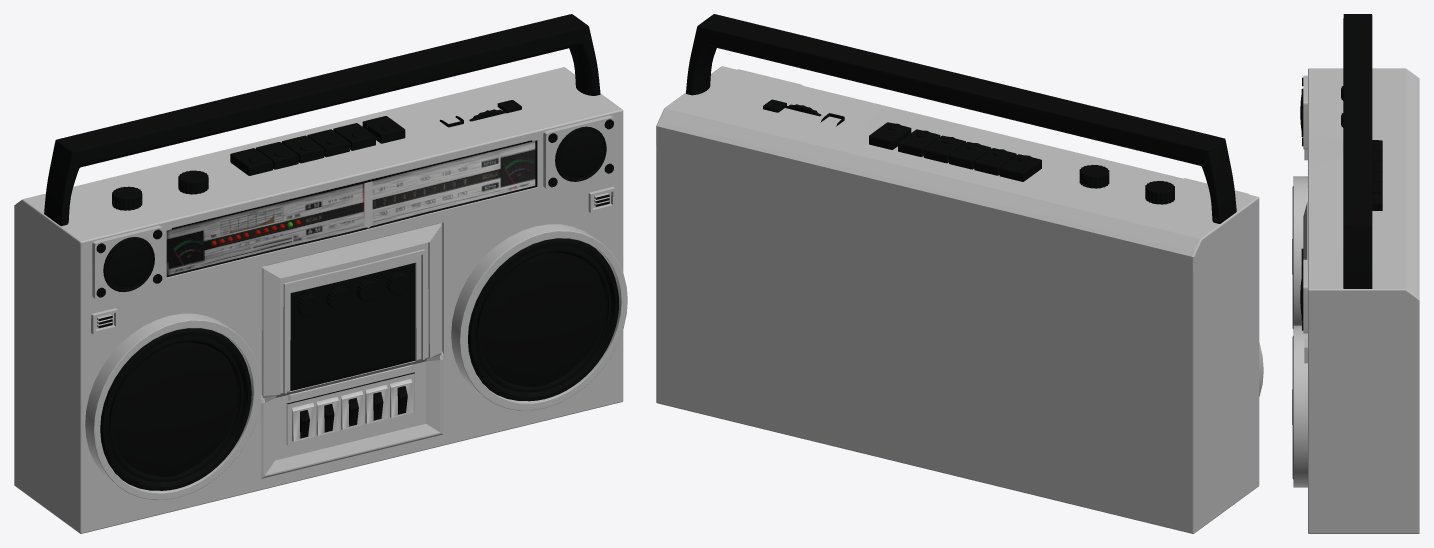
File: noalpha.glb
3 renders of one model, left to right at view 1: azimuth 30°, elevation 25°; view 2: azimuth 150°, elevation 25°; view 3: azimuth 270°, elevation 25°, orthographic. The views are drawn at different scales.
Parts seen in each view (by area): view 1: Box, Box.005, F1, Box.007, Box.009, Box.006, Box.008, Box.010, F6, F3, F5, F4 (+1 smaller); view 2: Box, F1, F6, F5, F2, F4, F3; view 3: Box, F6.
Part boxes in pixels (x1,y1,x2,y2): Box: (14,14,627,533); Box.005: (290,263,415,390); F1: (230,148,272,175); Box.007: (316,396,339,435); Box.009: (365,385,388,423); Box.006: (292,402,314,441); Box.008: (341,391,363,429); Box.010: (390,379,412,417); F6: (362,116,405,143); F3: (281,135,324,163); F5: (333,123,375,150); F4: (307,129,349,157); Box: (656,14,1263,533); F1: (999,154,1041,181); F6: (869,122,911,149); F5: (898,129,940,156); F2: (974,148,1016,175); F4: (923,135,965,163); F3: (949,142,991,169); Box: (1292,14,1419,533); F6: (1372,194,1382,210).
Size of the model in its own units: 0.7217 by 0.4618 by 0.1755.
1 material, 1 textured.
